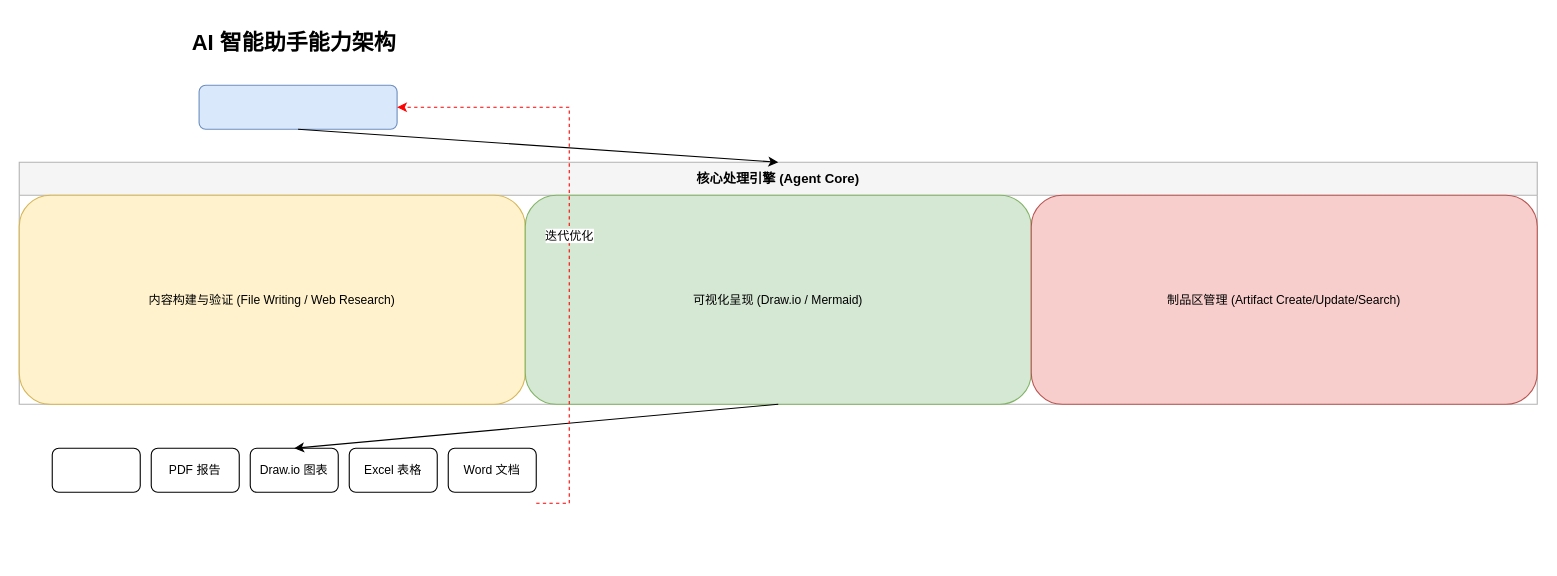
The diagram is 1557 pixels wide and 576 high, and some of its shapes have lost their labels. The box of each missing label's shape, as (x1, y1, x2, y2) in pixels:
HTML 页面: (51, 447, 140, 492)
用户需求输入: (198, 84, 397, 129)
